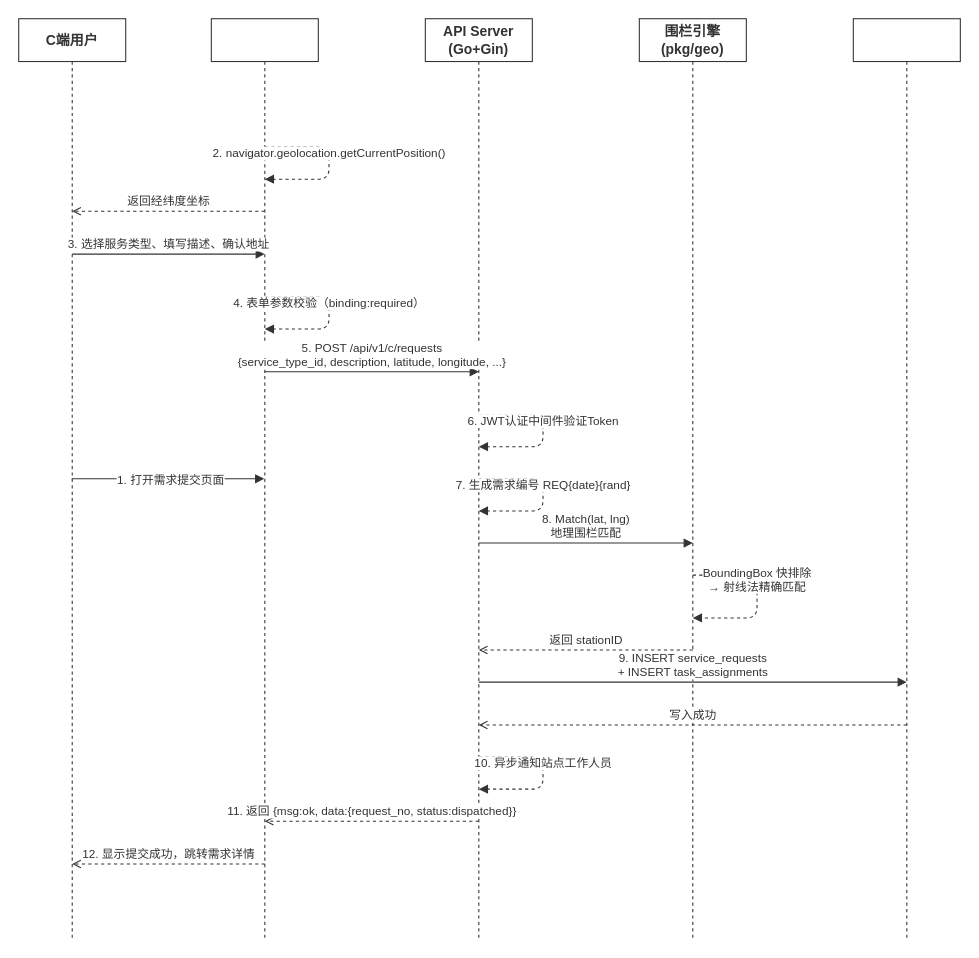
Image size: 979x958. Some labels were removed from this diagram. The box of each missing label's shape, as (x1, y1, x2, y2) in pixels:
C端前端 (Vue 3): (210, 18, 318, 939)
MySQL 数据库: (852, 18, 960, 939)
